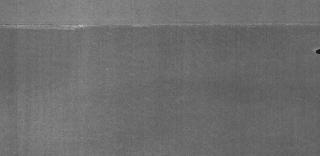punching hole: (313, 46, 319, 56)
silk spot: (31, 45, 290, 151)
welding line: (1, 20, 319, 34)
